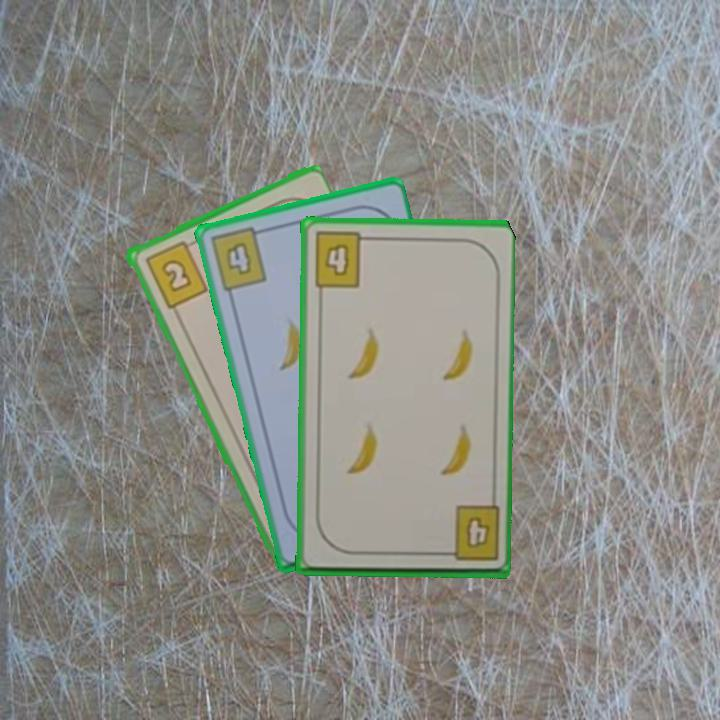2b: (141, 237, 210, 311)
4b: (206, 224, 270, 294), (436, 503, 502, 564), (311, 229, 373, 290)
